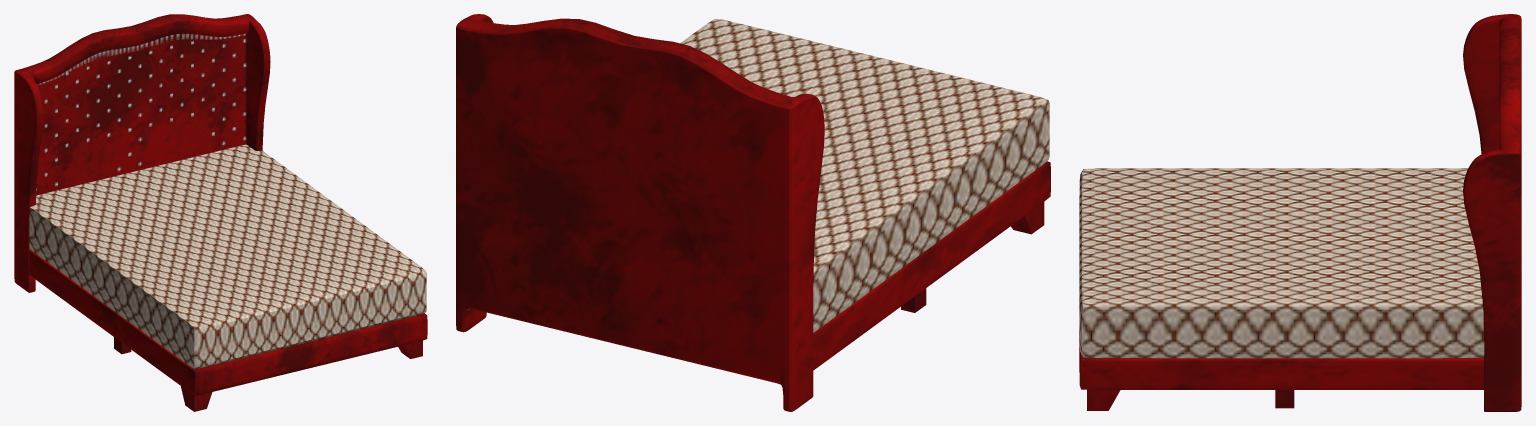
Rendered from yusuf_tufted .fbx.
3 views of the same model, side by side, from view 1: azimuth 30°, elevation 25°; view 2: azimuth 150°, elevation 25°; view 3: azimuth 270°, elevation 25° (orthographic). The views are drawn at different scales.
Visible parts, largest first — view 1: Yusuf Tufted Upholstered Low Profile Standard Bed.004; view 2: Yusuf Tufted Upholstered Low Profile Standard Bed.004; view 3: Yusuf Tufted Upholstered Low Profile Standard Bed.004.
Boxes of the visible parts, <box> form: Yusuf Tufted Upholstered Low Profile Standard Bed.004: <box>14,14,427,411</box>; Yusuf Tufted Upholstered Low Profile Standard Bed.004: <box>456,14,1050,411</box>; Yusuf Tufted Upholstered Low Profile Standard Bed.004: <box>1079,14,1521,411</box>.
Bounding box in the file's own units: 1.68 × 1.59 × 2.24.
